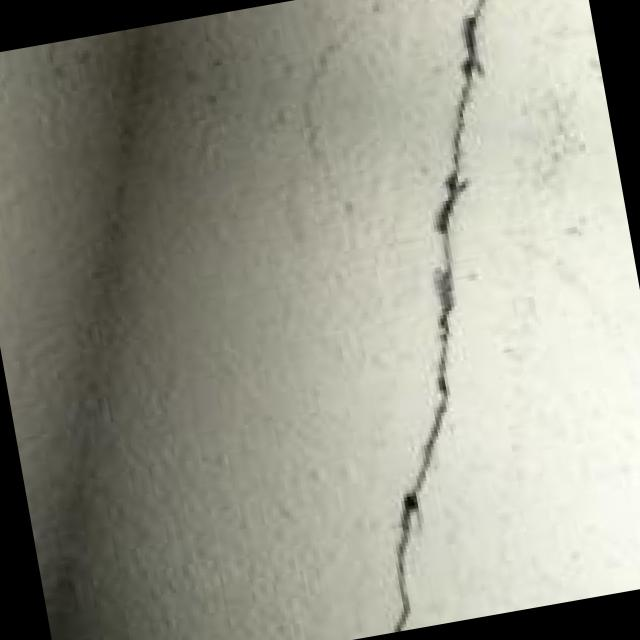crack: (264, 0, 624, 632)
